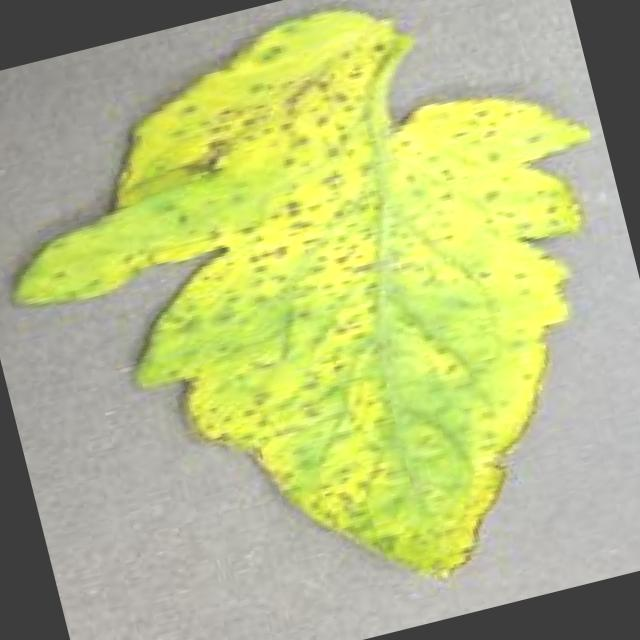bacterial spot: (9, 13, 599, 585)
